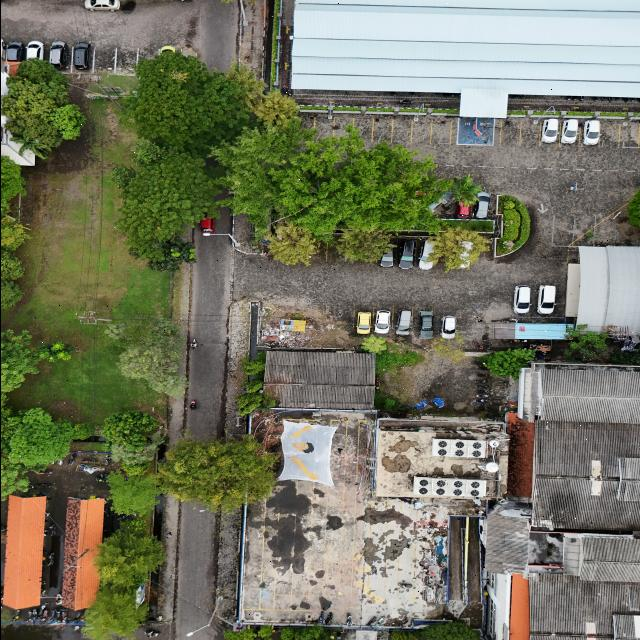Tree: (142, 438, 280, 508), (258, 221, 322, 269), (100, 411, 164, 453), (480, 345, 535, 383), (49, 106, 86, 140), (358, 336, 388, 354)
